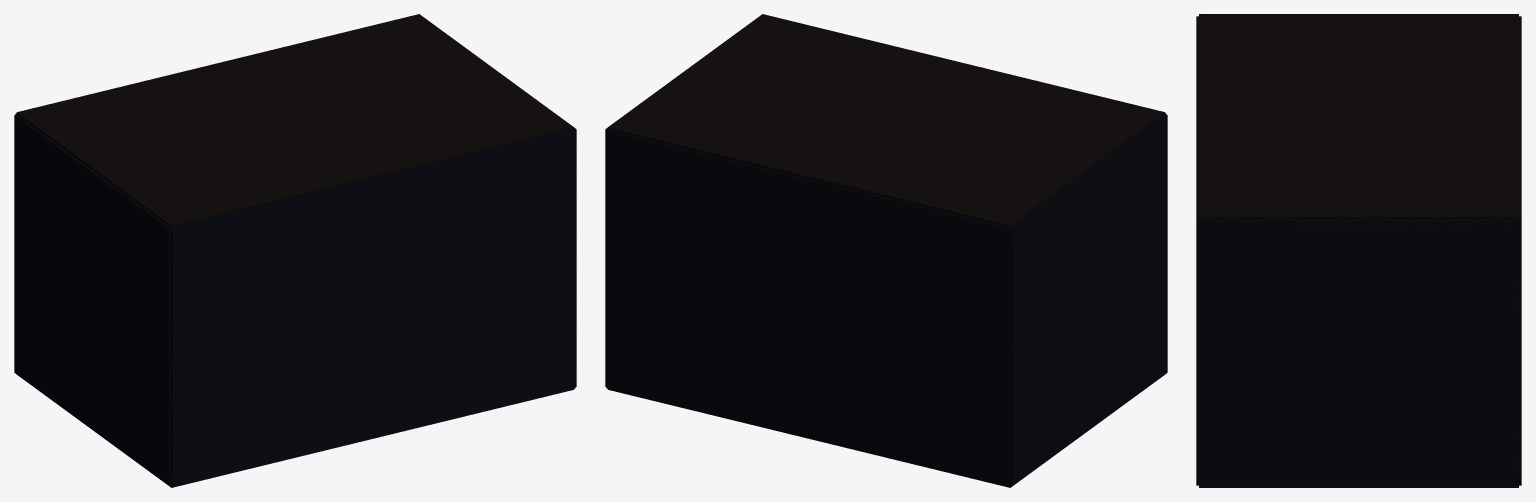
The model's file is archive_stair.glb.
3 renders of one model, left to right at view 1: azimuth 30°, elevation 25°; view 2: azimuth 150°, elevation 25°; view 3: azimuth 270°, elevation 25°, orthographic. The views are drawn at different scales.
Visible parts, largest first — view 1: archive_stair_walls, archive_stair_ceiling, archive_stair_floor; view 2: archive_stair_walls, archive_stair_ceiling, archive_stair_floor; view 3: archive_stair_walls, archive_stair_ceiling, archive_stair_floor.
Part boxes in pixels (bbox=[...]): archive_stair_walls: bbox=[14, 113, 576, 486]; archive_stair_ceiling: bbox=[16, 14, 574, 227]; archive_stair_floor: bbox=[19, 376, 574, 487]; archive_stair_walls: bbox=[605, 113, 1167, 486]; archive_stair_ceiling: bbox=[607, 14, 1165, 227]; archive_stair_floor: bbox=[607, 376, 1162, 487]; archive_stair_walls: bbox=[1196, 16, 1521, 486]; archive_stair_ceiling: bbox=[1199, 14, 1518, 219]; archive_stair_floor: bbox=[1199, 486, 1518, 487].
Bounding box in the file's own units: 18.2 × 11.2 × 12.2.
13 materials, 11 textured.
